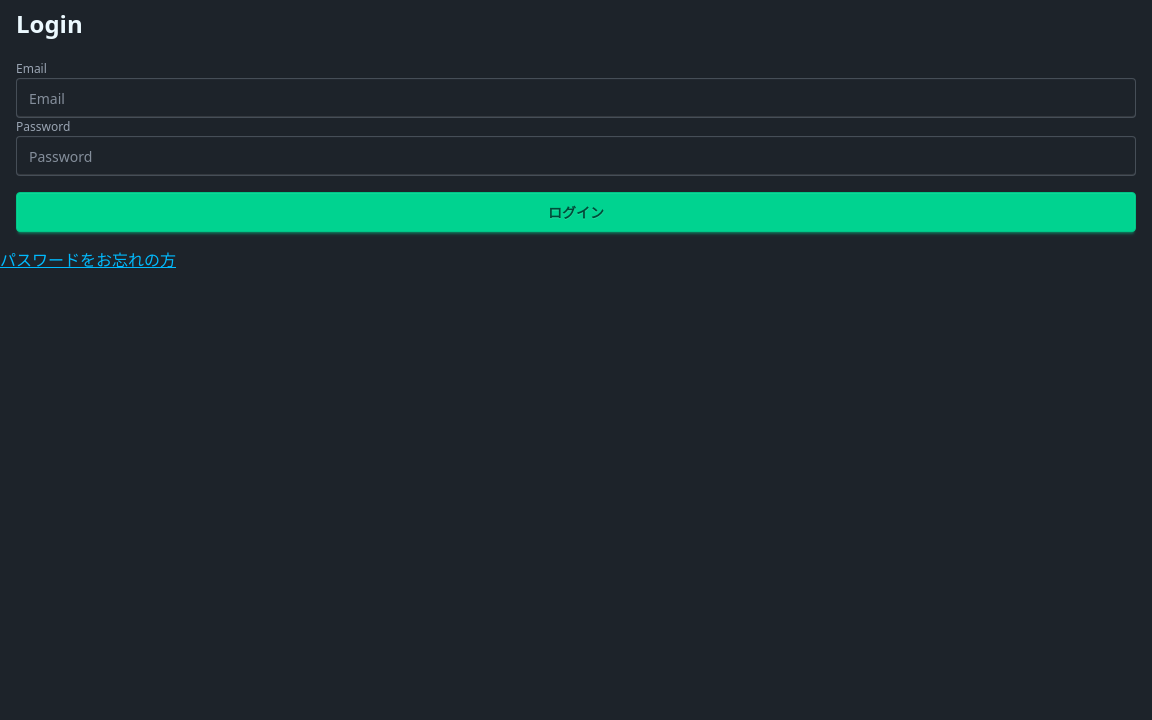
Test case: LoginForm.tsx › フォームのUI表示 › パスワードリセットフォームを開ける
The width and height of the screenshot is (1152, 720).
Click the button "パスワードをお忘れの方". click: point(88, 260)
box: [0,248,176,272]
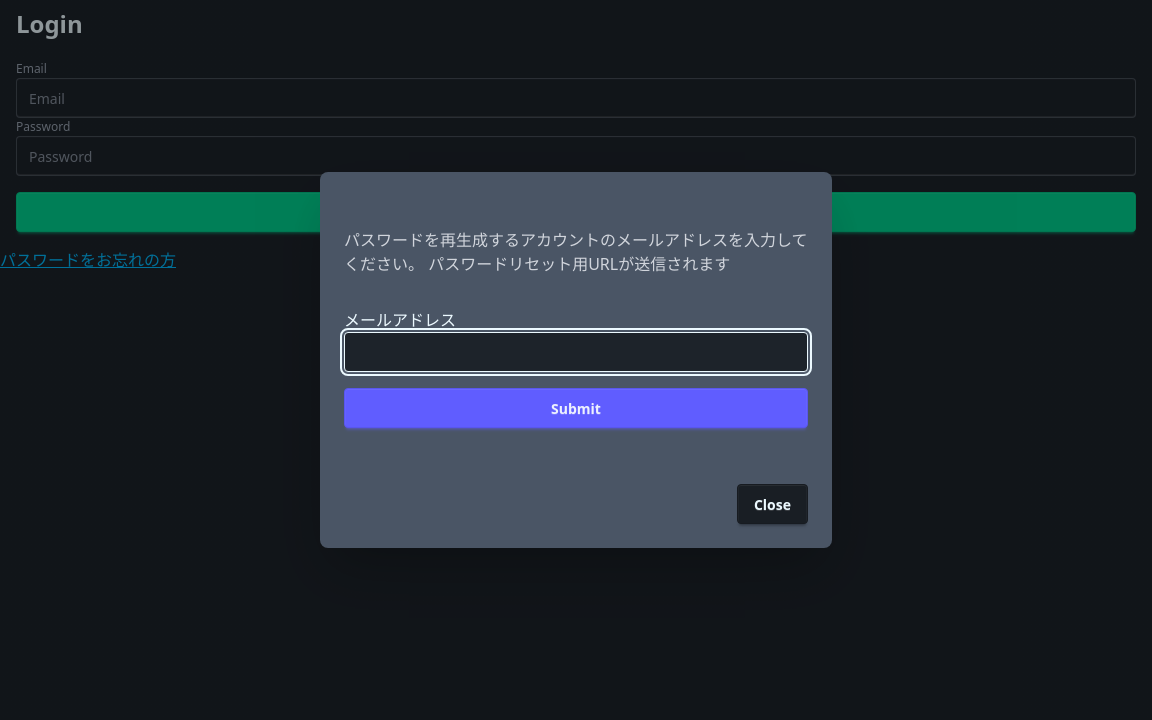
Now the element with test id "password-reset-request-form" is shown, box [344,196,808,460]
